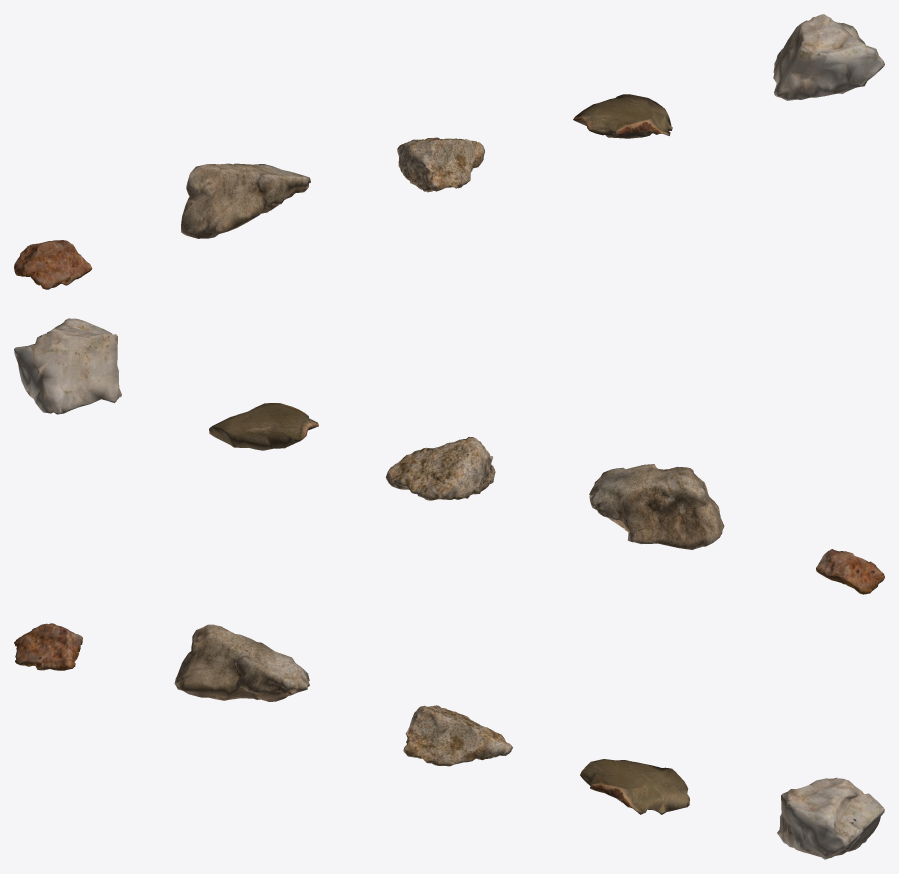
File: namaqualand_stones_01.glb
3 views of the same model, one above another, from view 1: azimuth 30°, elevation 25°; view 2: azimuth 150°, elevation 25°; view 3: azimuth 330°, elevation 25° (orthographic).
Parts seen in each view (by area): view 1: namaqualand_stones_01_e, namaqualand_stones_01_b, namaqualand_stones_01_c, namaqualand_stones_01_d, namaqualand_stones_01_a; view 2: namaqualand_stones_01_b, namaqualand_stones_01_e, namaqualand_stones_01_c, namaqualand_stones_01_d, namaqualand_stones_01_a; view 3: namaqualand_stones_01_b, namaqualand_stones_01_e, namaqualand_stones_01_c, namaqualand_stones_01_d, namaqualand_stones_01_a.
Boxes of the visible parts, <box> form: namaqualand_stones_01_e: <box>773,14,884,100</box>; namaqualand_stones_01_b: <box>181,163,310,238</box>; namaqualand_stones_01_c: <box>397,137,484,192</box>; namaqualand_stones_01_d: <box>573,94,672,138</box>; namaqualand_stones_01_a: <box>14,240,92,289</box>; namaqualand_stones_01_b: <box>589,464,724,549</box>; namaqualand_stones_01_e: <box>14,318,121,414</box>; namaqualand_stones_01_c: <box>385,437,495,500</box>; namaqualand_stones_01_d: <box>209,403,318,450</box>; namaqualand_stones_01_a: <box>816,549,884,594</box>; namaqualand_stones_01_b: <box>174,624,309,701</box>; namaqualand_stones_01_e: <box>777,777,884,859</box>; namaqualand_stones_01_c: <box>403,705,512,766</box>; namaqualand_stones_01_d: <box>580,759,689,814</box>; namaqualand_stones_01_a: <box>14,623,82,670</box>.
Size of the model in its own units: 1.02 by 0.084 by 0.1119.
Materials: 1 (1 with a texture image).
